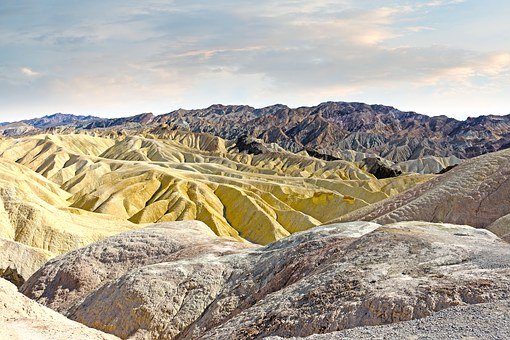mountain: (1, 128, 508, 340), (125, 106, 510, 160)
sky: (2, 1, 509, 111)
stone: (87, 226, 510, 337)
